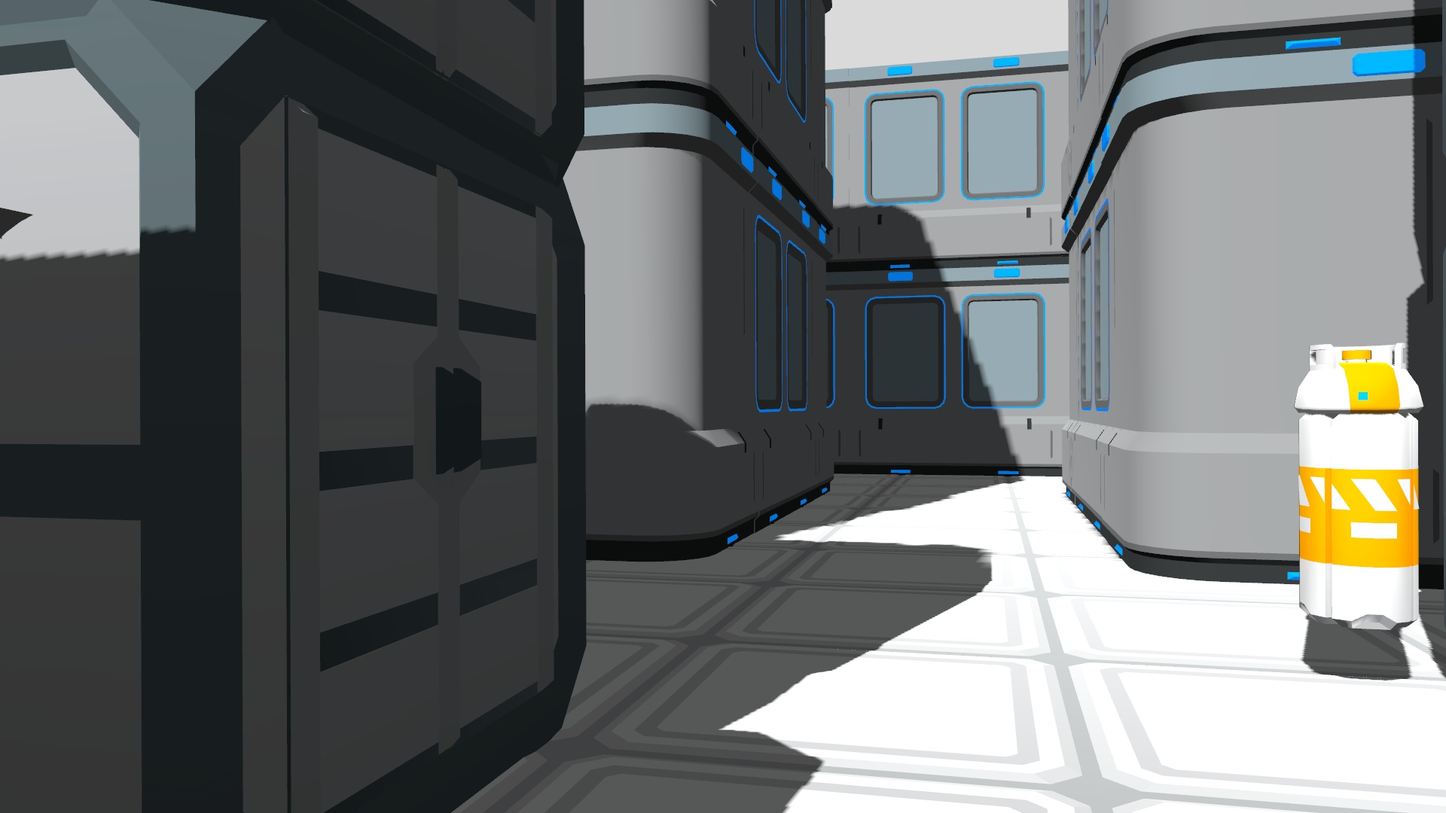yellow_barrel: (1293, 333, 1434, 640)
